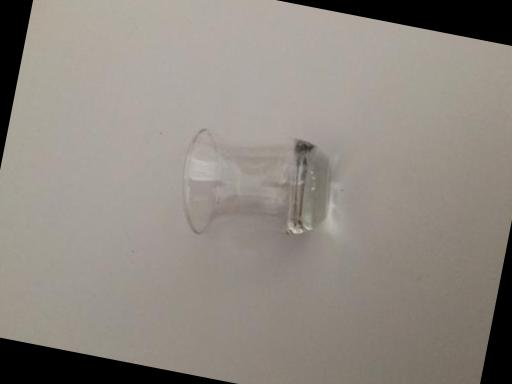glass: (146, 99, 352, 283)
